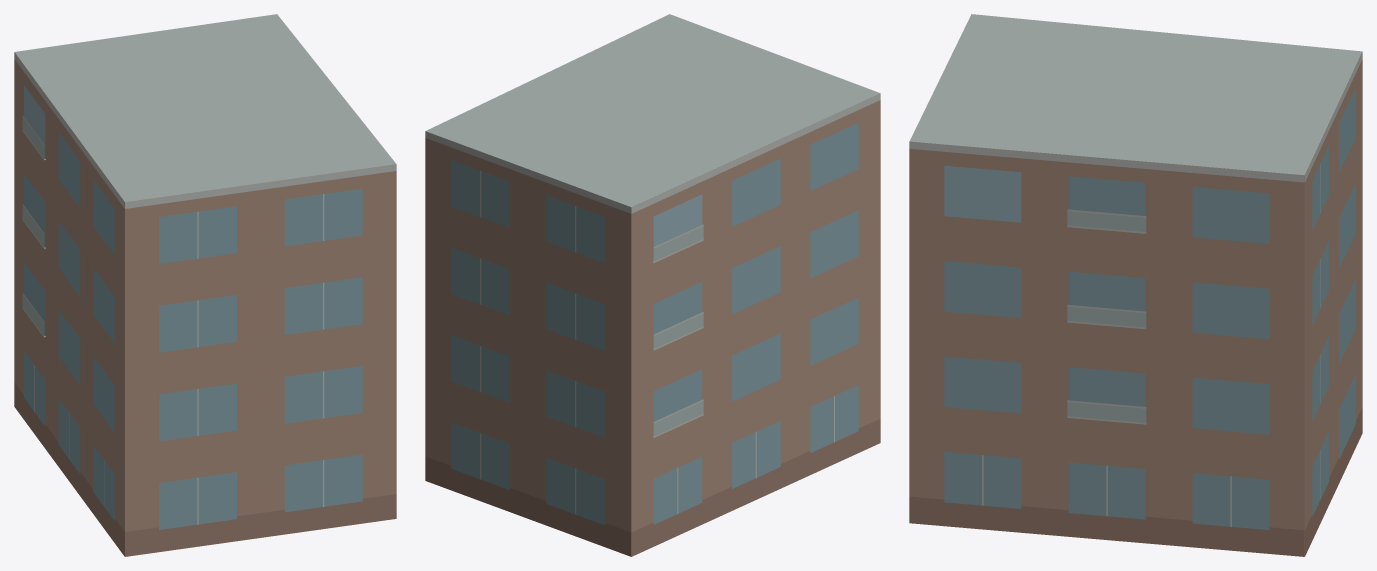
The model's file is survey-upis-32652870.glb.
3 views of the same model, side by side, from view 1: azimuth 30°, elevation 25°; view 2: azimuth 150°, elevation 25°; view 3: azimuth 270°, elevation 25° (orthographic). The views are drawn at different scales.
Visible parts, largest first — view 1: survey-upis-32652870.tmp; view 2: survey-upis-32652870.tmp; view 3: survey-upis-32652870.tmp.
Part boxes in pixels (x1,y1,x2,y2): survey-upis-32652870.tmp: (14, 14, 396, 556); survey-upis-32652870.tmp: (425, 14, 880, 556); survey-upis-32652870.tmp: (909, 14, 1362, 556).
Size of the model in its own units: 11.61 by 12.8 by 13.79.
